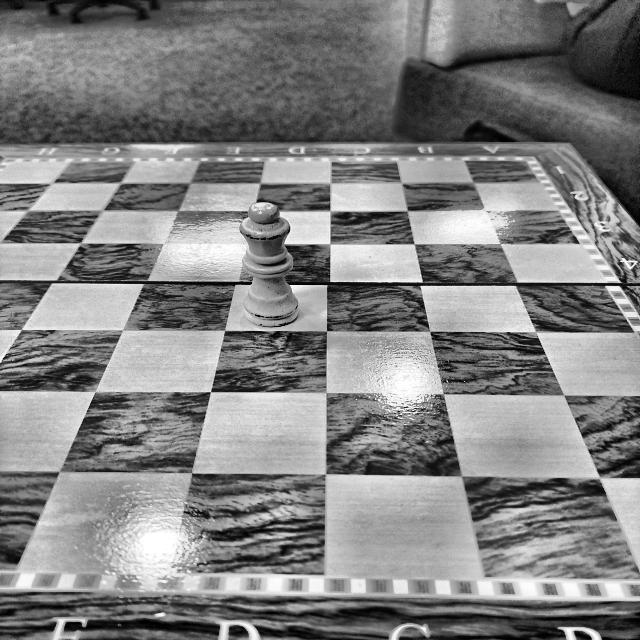white-queen: (240, 202, 299, 327)
